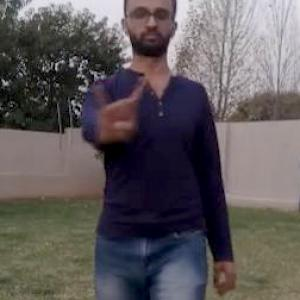takeoff-hand: (85, 68, 150, 138)
